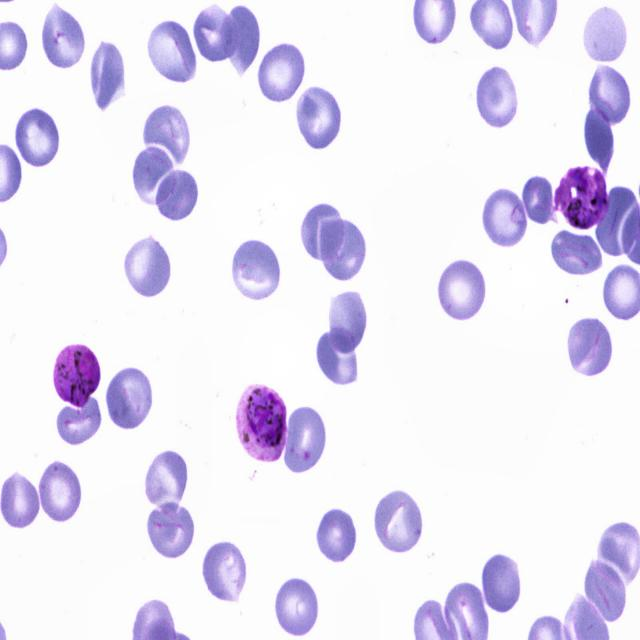gametocyte: (53, 344, 103, 411)
red blood cell: (435, 257, 490, 322), (102, 366, 155, 431), (147, 19, 199, 84), (122, 236, 174, 300), (272, 575, 324, 639), (230, 239, 282, 303), (142, 103, 192, 169), (596, 182, 640, 257), (294, 87, 345, 151), (41, 3, 90, 69), (374, 489, 422, 556), (144, 448, 190, 517), (565, 316, 615, 379), (317, 217, 366, 281), (12, 106, 62, 167), (283, 405, 326, 475), (258, 44, 309, 103), (581, 3, 630, 64), (482, 186, 528, 250), (476, 65, 520, 130), (38, 462, 84, 524), (132, 143, 176, 207), (202, 542, 248, 603), (194, 2, 240, 63), (146, 502, 195, 558), (550, 228, 604, 278), (584, 558, 626, 622), (300, 202, 345, 261), (153, 168, 201, 223), (91, 37, 126, 112), (54, 395, 103, 448), (0, 470, 42, 531), (328, 290, 368, 354), (482, 553, 522, 616), (222, 4, 258, 73), (316, 507, 360, 562), (590, 64, 630, 124), (315, 330, 358, 385), (584, 103, 614, 175), (521, 176, 557, 226)
trophozoite: (236, 383, 290, 467), (556, 166, 610, 228)
